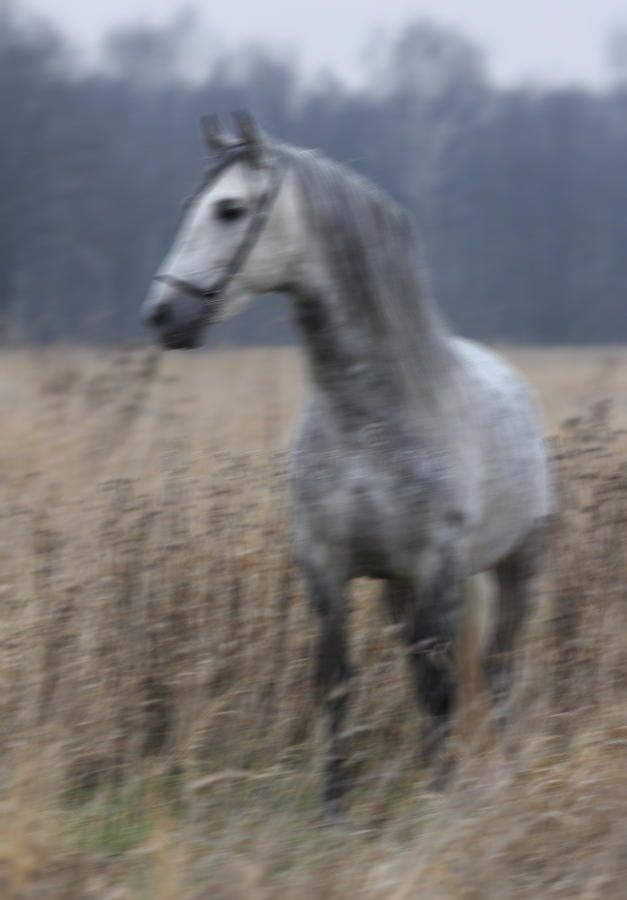horse: (141, 107, 558, 830)
